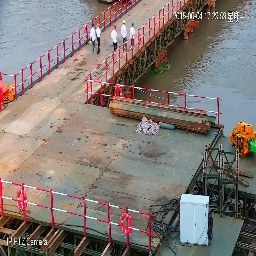no-vest: (121, 25, 127, 43), (112, 29, 118, 46), (90, 28, 96, 44), (130, 28, 135, 44)
person: (111, 22, 119, 56), (129, 20, 136, 54), (121, 20, 128, 53), (90, 22, 96, 56), (96, 23, 102, 55)
